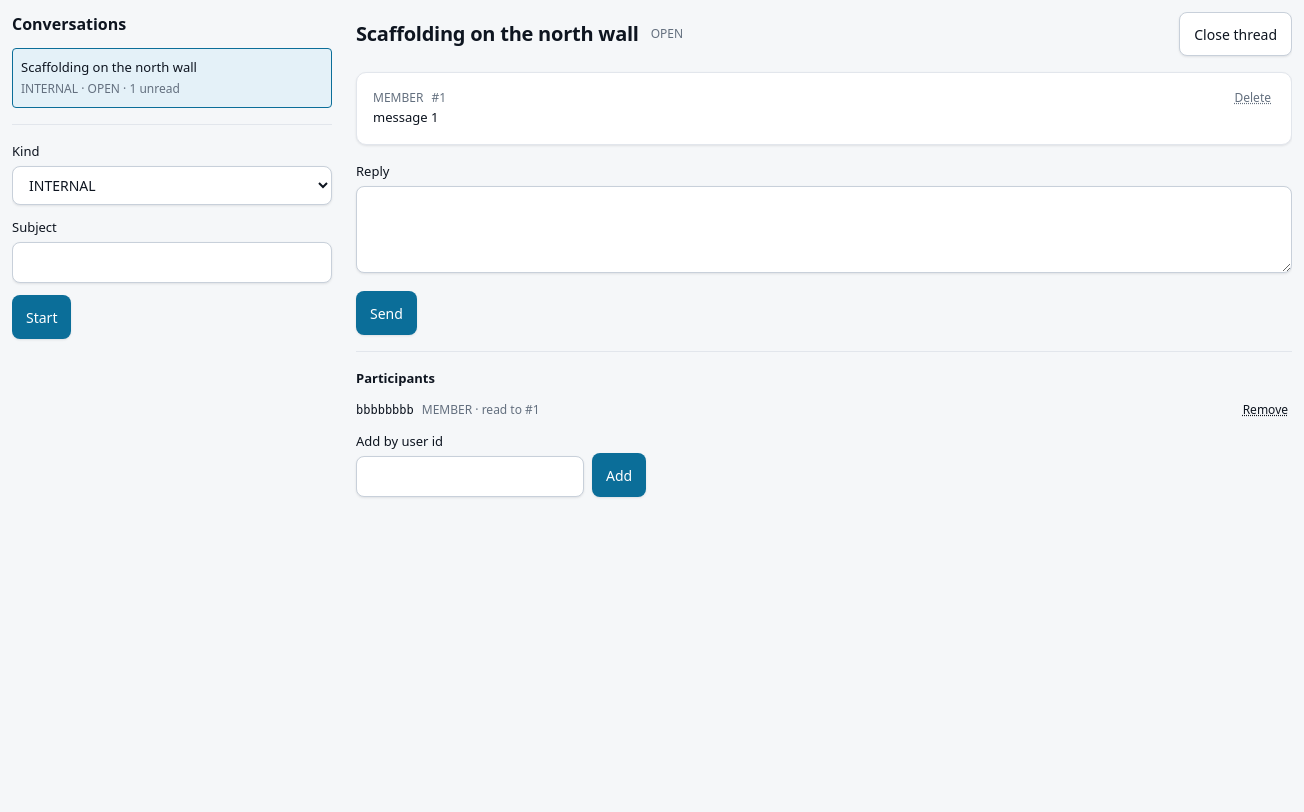
Scenario: posting a message › takes the placeholder back when the post fails, and says why
Type "never sent" into the text box labelled "Reply" at (824, 230), box [356, 186, 1292, 273]
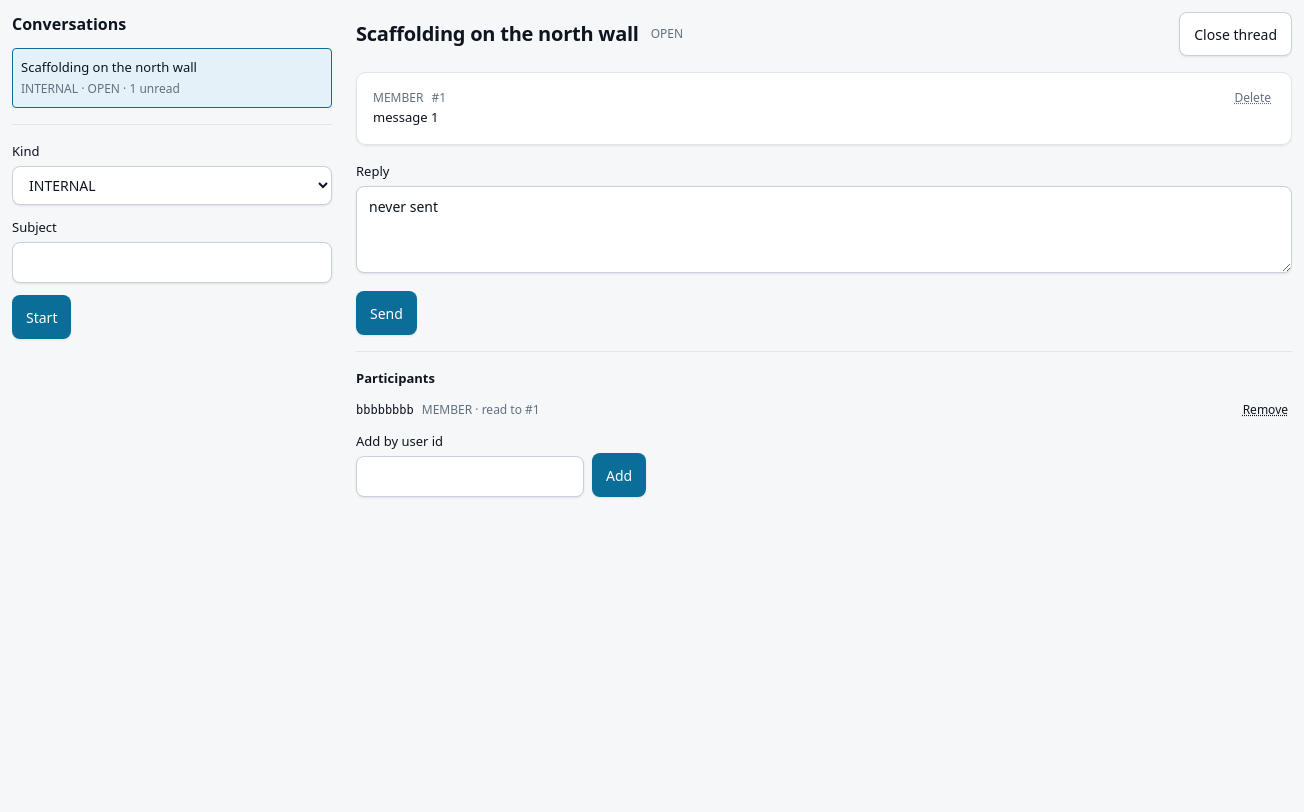
Click the button "Send" at (386, 313), box [356, 291, 417, 335]
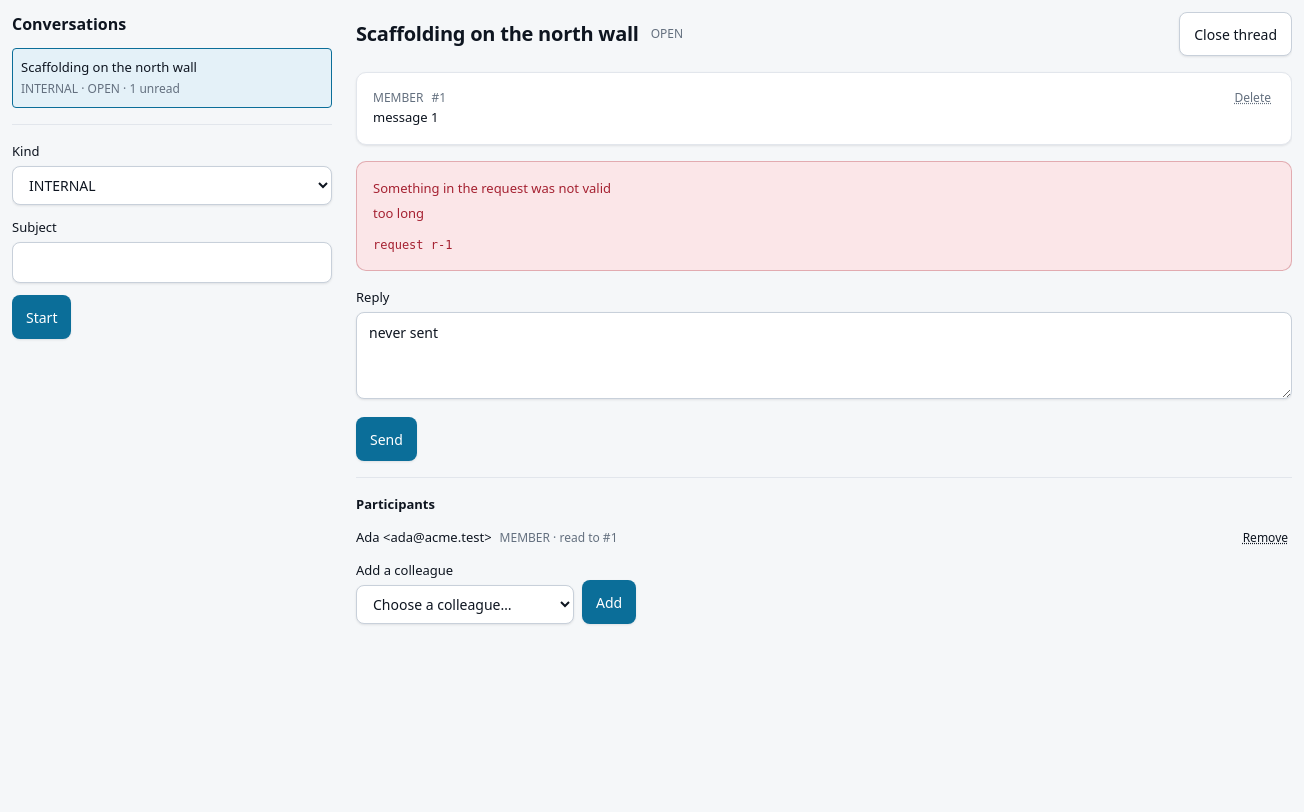
Check: the text "message 1" is shown, box [373, 108, 438, 126]
Check: the text "Something in the request was not valid" is shown, box [373, 179, 611, 197]
